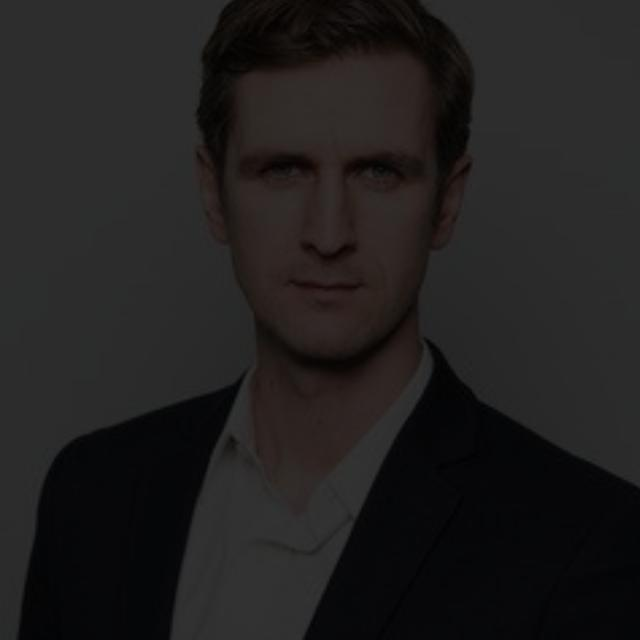Natural: (142, 22, 414, 364)
